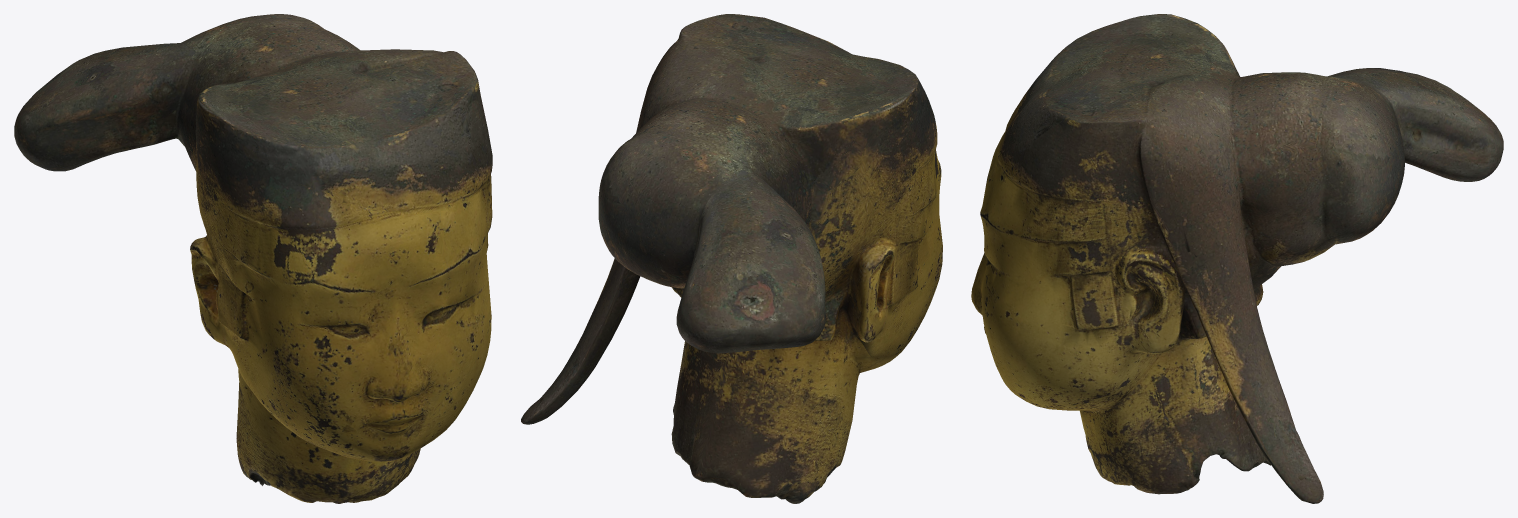
File: tou.FBX
The picture shows the model from 3 angles, left to right: view 1: azimuth 30°, elevation 25°; view 2: azimuth 150°, elevation 25°; view 3: azimuth 270°, elevation 25°; orthographic projection. The views are drawn at different scales.
Visible parts, largest first — view 1: Group24240; view 2: Group24240; view 3: Group24240.
Boxes of the visible parts, left/top/right/bottom form: Group24240: left=14, top=14, right=492, bottom=503; Group24240: left=521, top=14, right=942, bottom=503; Group24240: left=971, top=14, right=1503, bottom=503.
Bounding box in the file's own units: 802 × 878 × 1037.
Materials: 1 (1 with a texture image).
